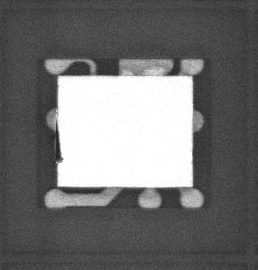DIE_BROKEN: (53, 121, 66, 165)
